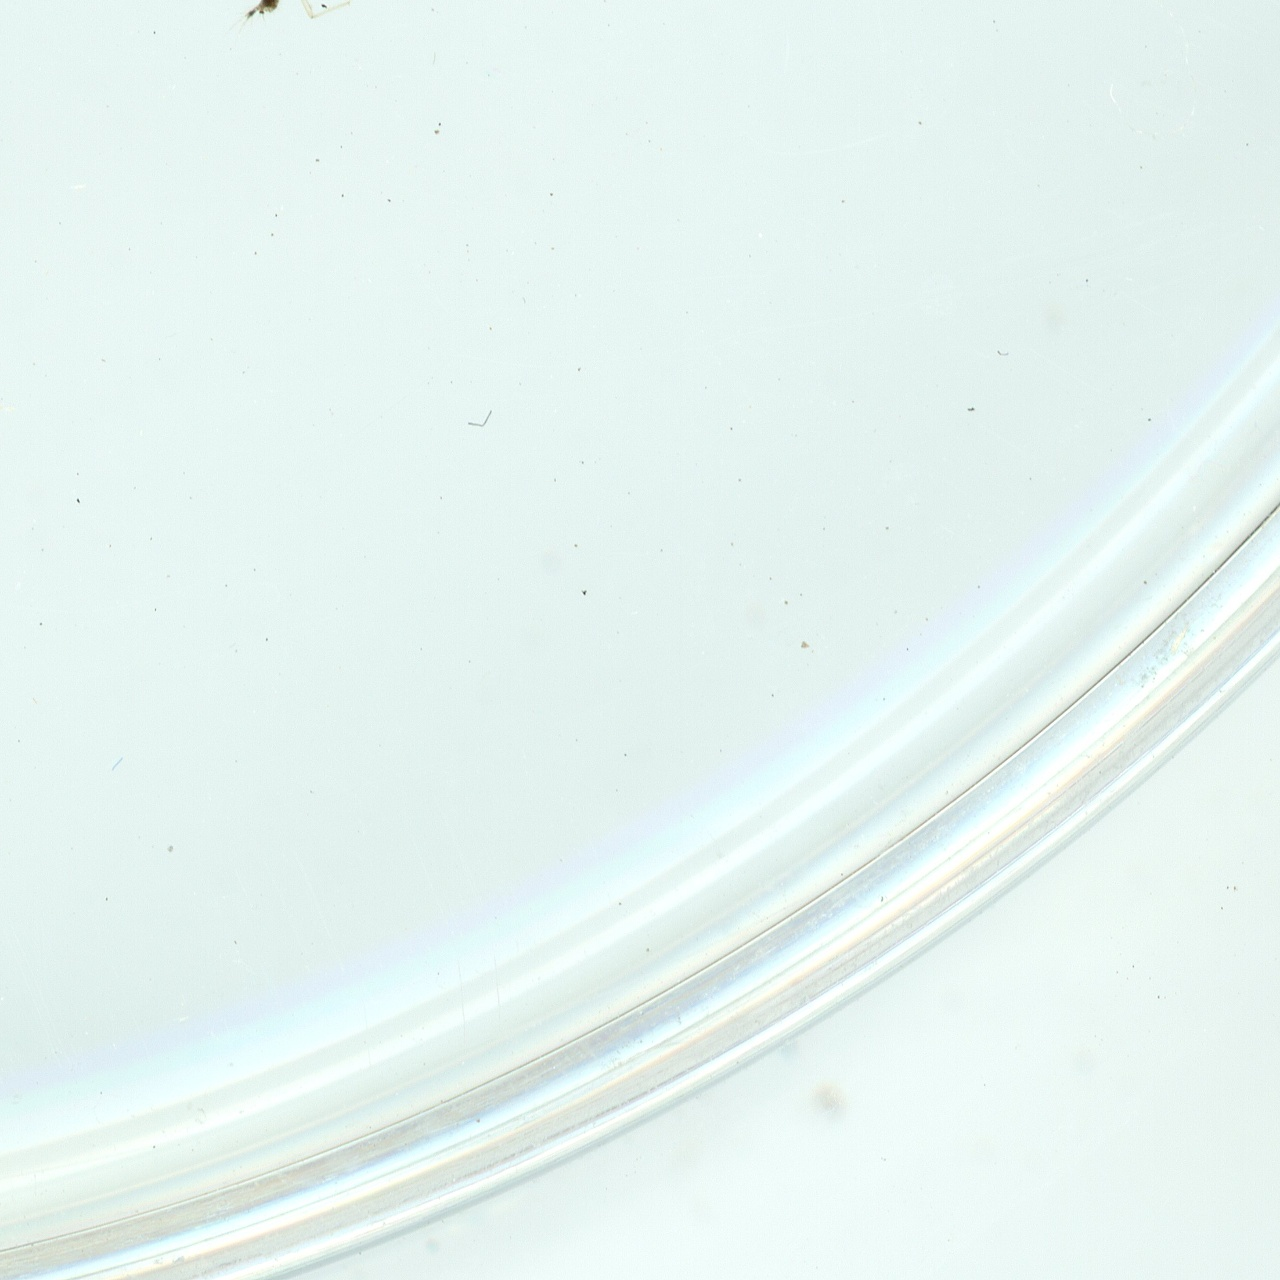arthropod: (229, 0, 373, 40)
